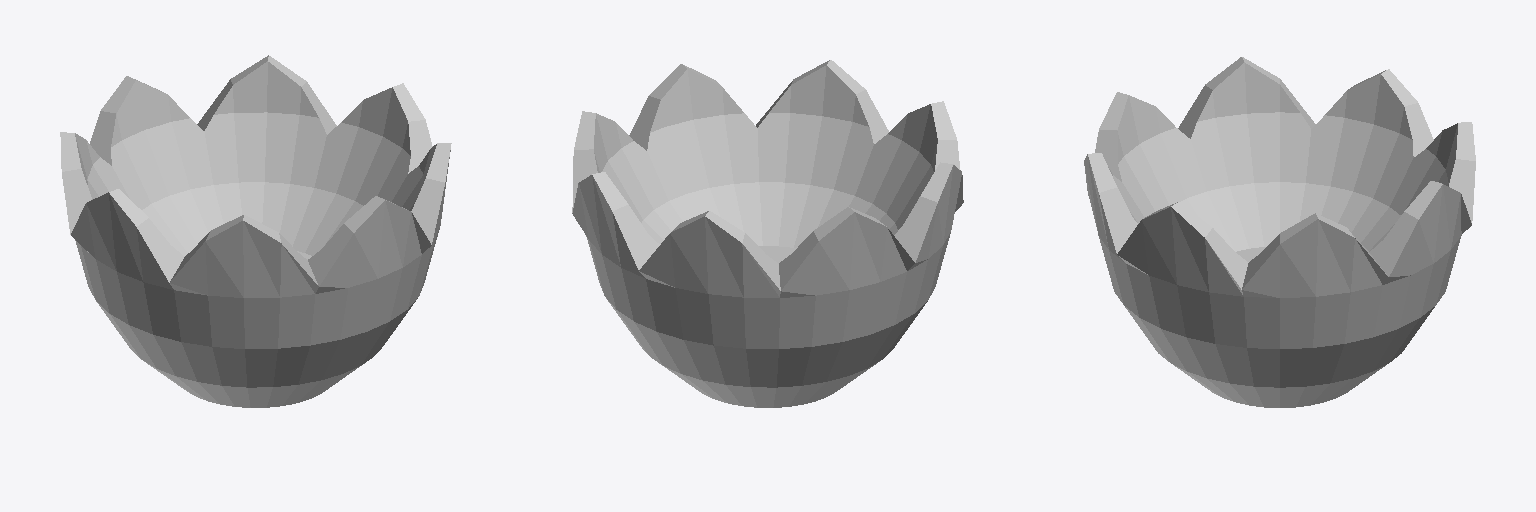
Rendered from wave.obj.
3 renders of one model, left to right at view 1: azimuth 30°, elevation 25°; view 2: azimuth 150°, elevation 25°; view 3: azimuth 270°, elevation 25°, orthographic.
Parts seen in each view (by area): view 1: Cylinder; view 2: Cylinder; view 3: Cylinder.
Part boxes in pixels (left/top/right/bottom): Cylinder: left=60, top=55, right=451, bottom=407; Cylinder: left=572, top=60, right=963, bottom=407; Cylinder: left=1084, top=57, right=1475, bottom=407.
Size of the model in its own units: 1.5 by 1 by 1.5.